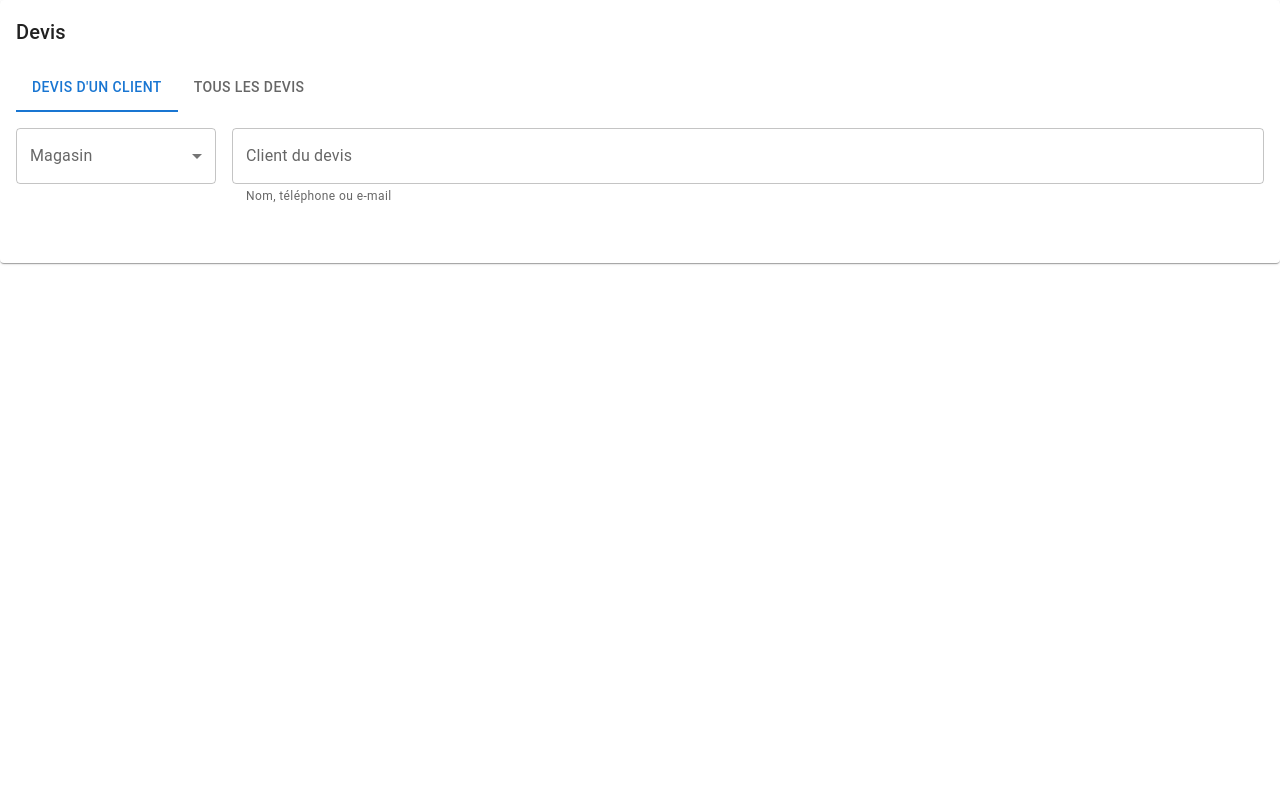
Test: passe un devis en commande avec acompte
Type "ben" into the field labelled "Client du devis" at (748, 156), box [232,128,1264,184]
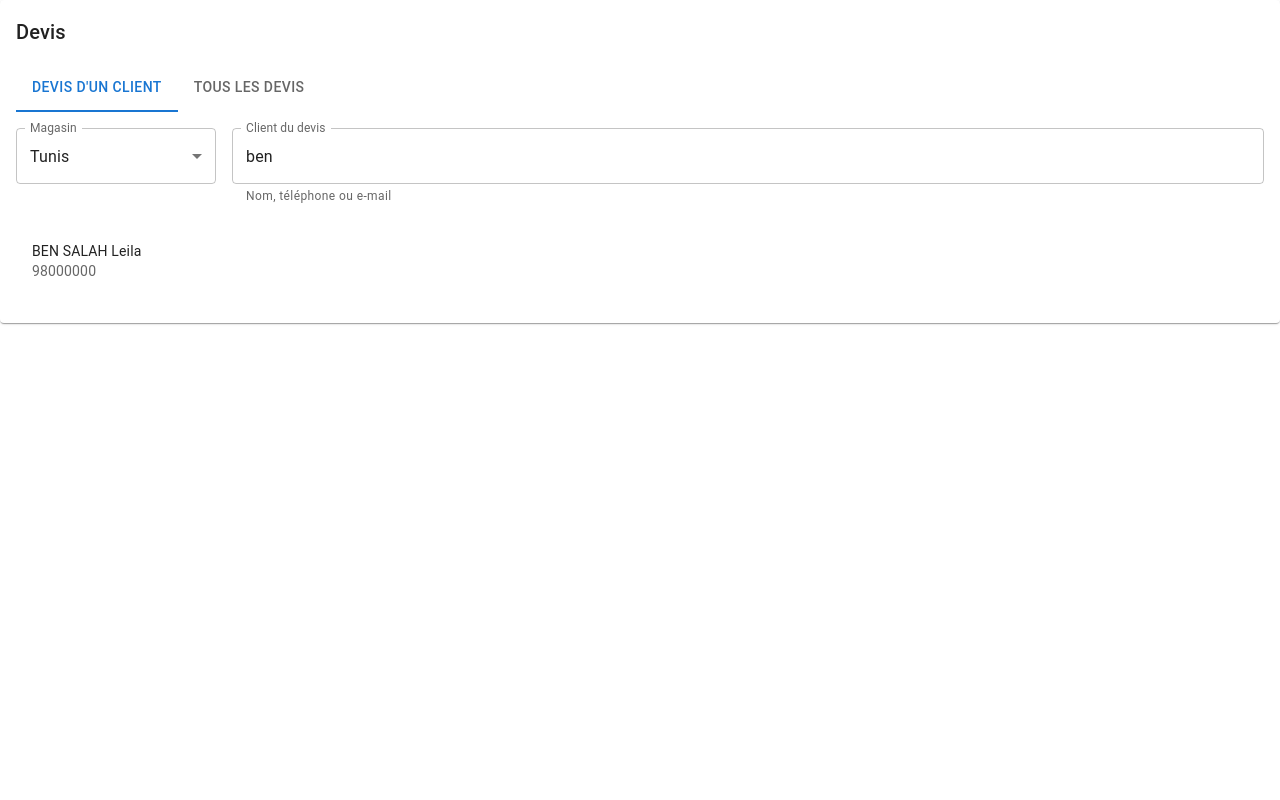
Click the text "BEN SALAH Leila" at (87, 251), box [32,243,142,259]
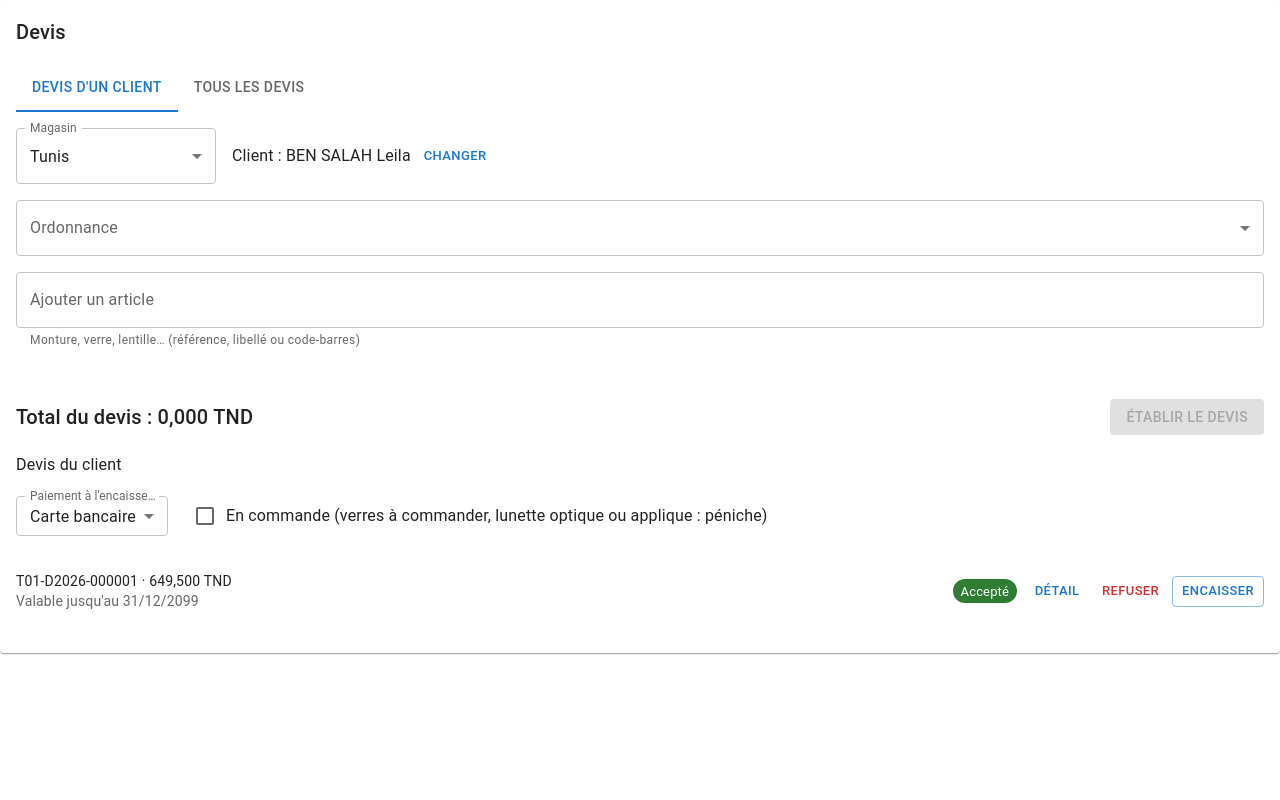
Click the checkbox labelled "En commande" at (480, 516), box [193,504,768,528]
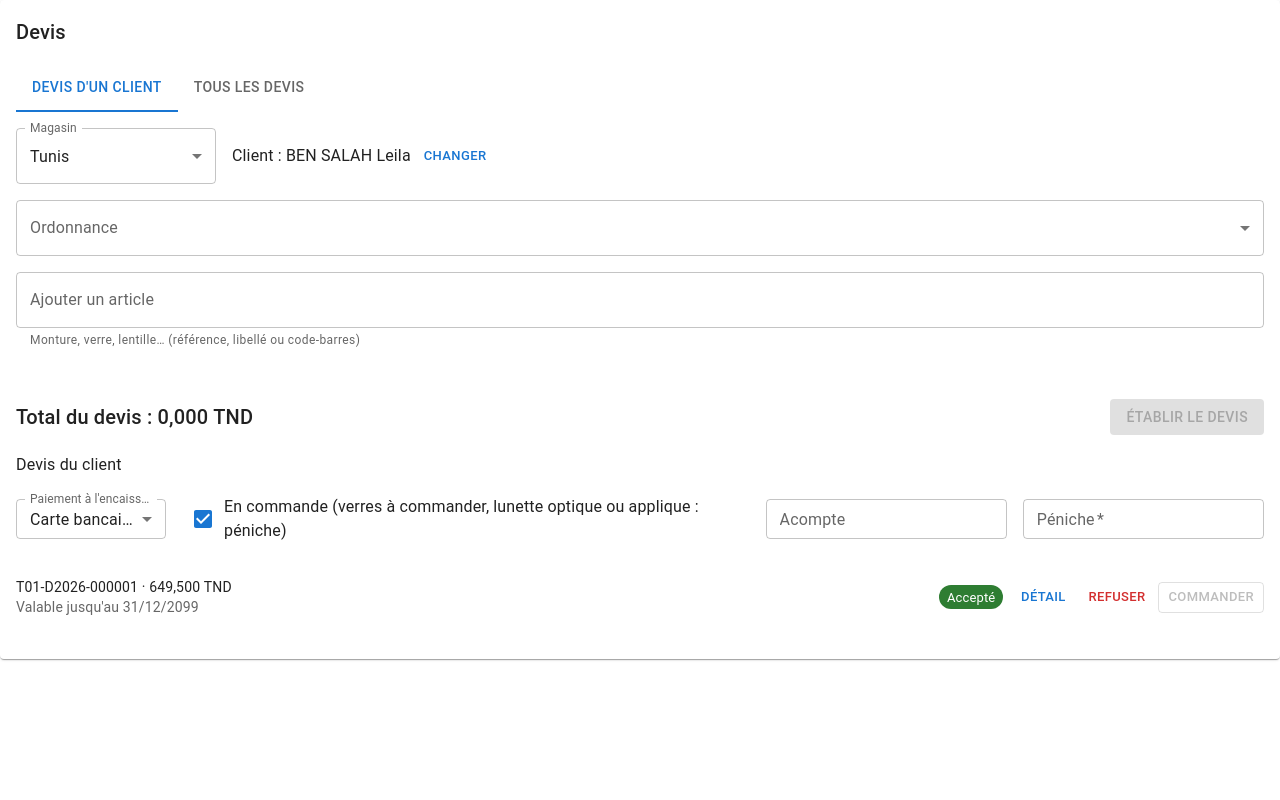
Type "300" into the number field labelled "Acompte" at (886, 519), box [766,499,1007,539]
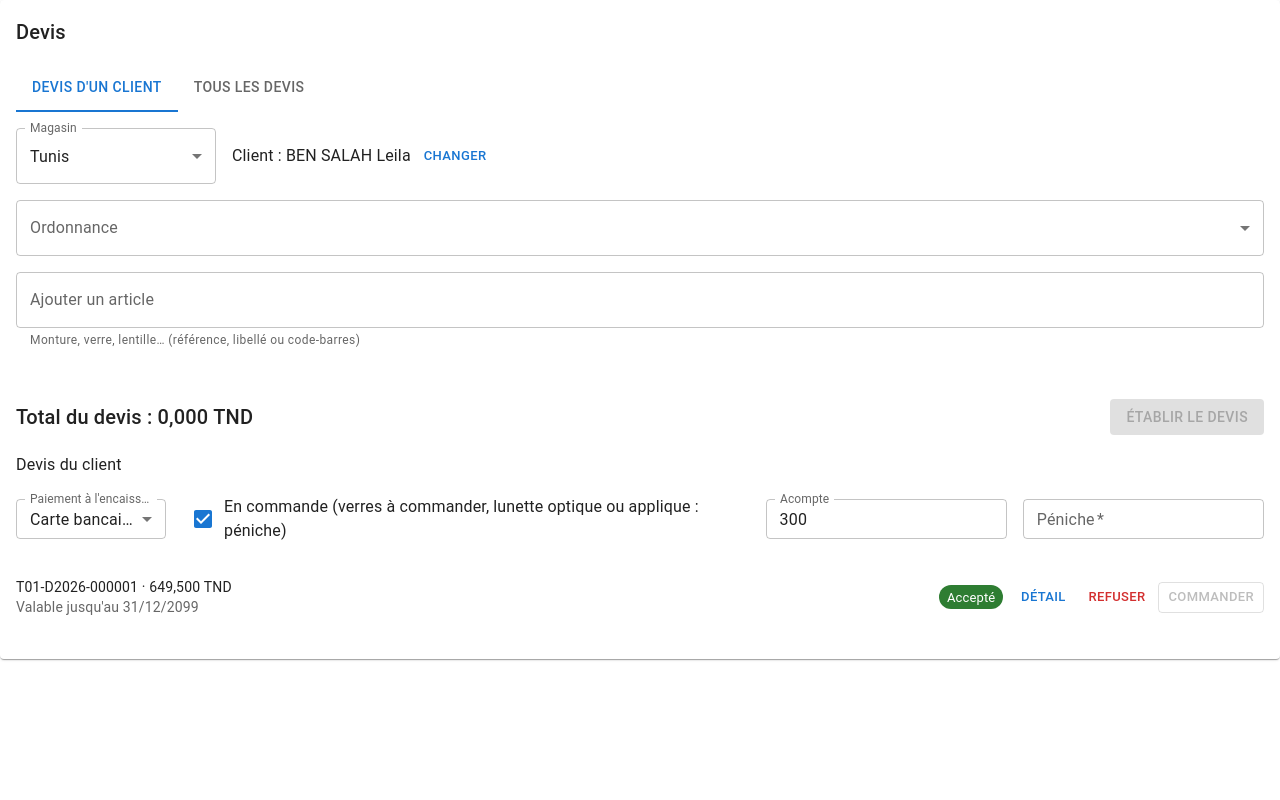
Expected: the button "Commander" is disabled, [1158,582,1264,613]
Type "12" into the number field labelled "Péniche *" at (1143, 519), box [1023,499,1264,539]
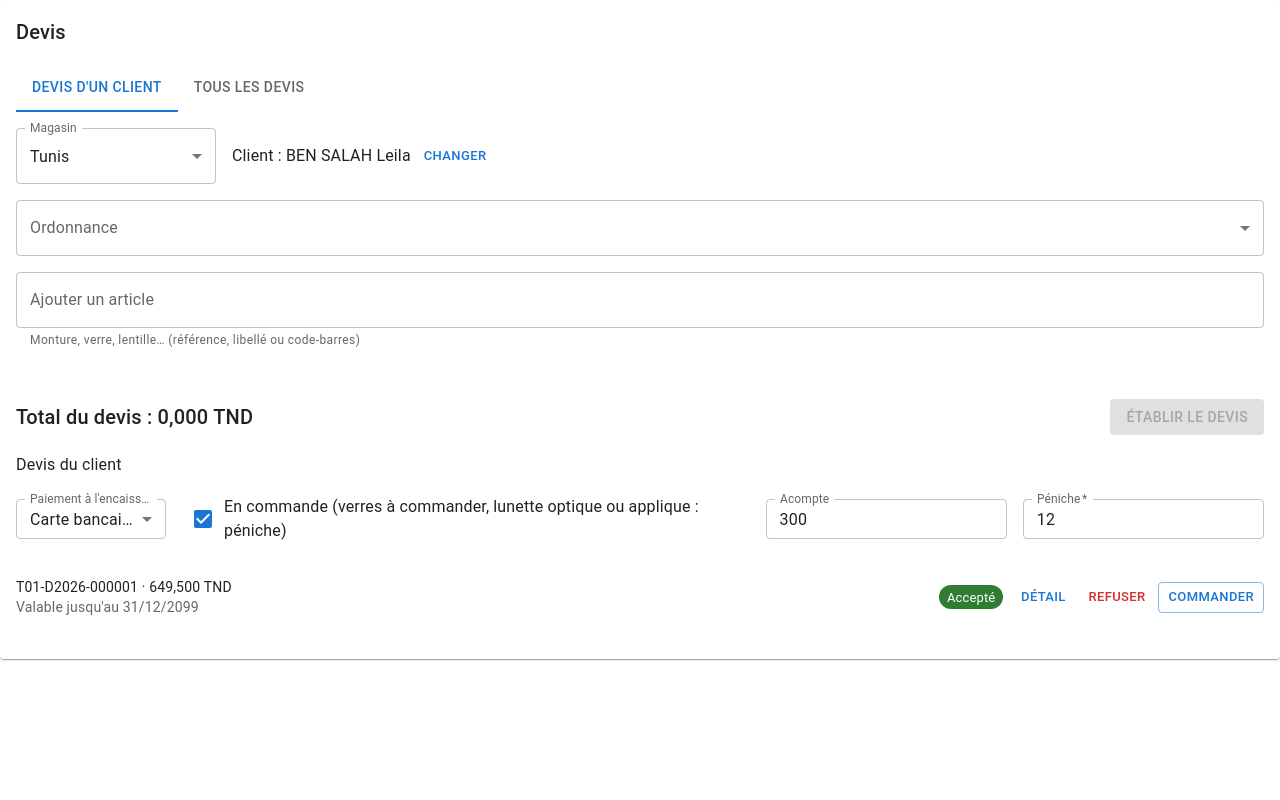
Click the button "Commander" at (1211, 597), box [1158,582,1264,613]
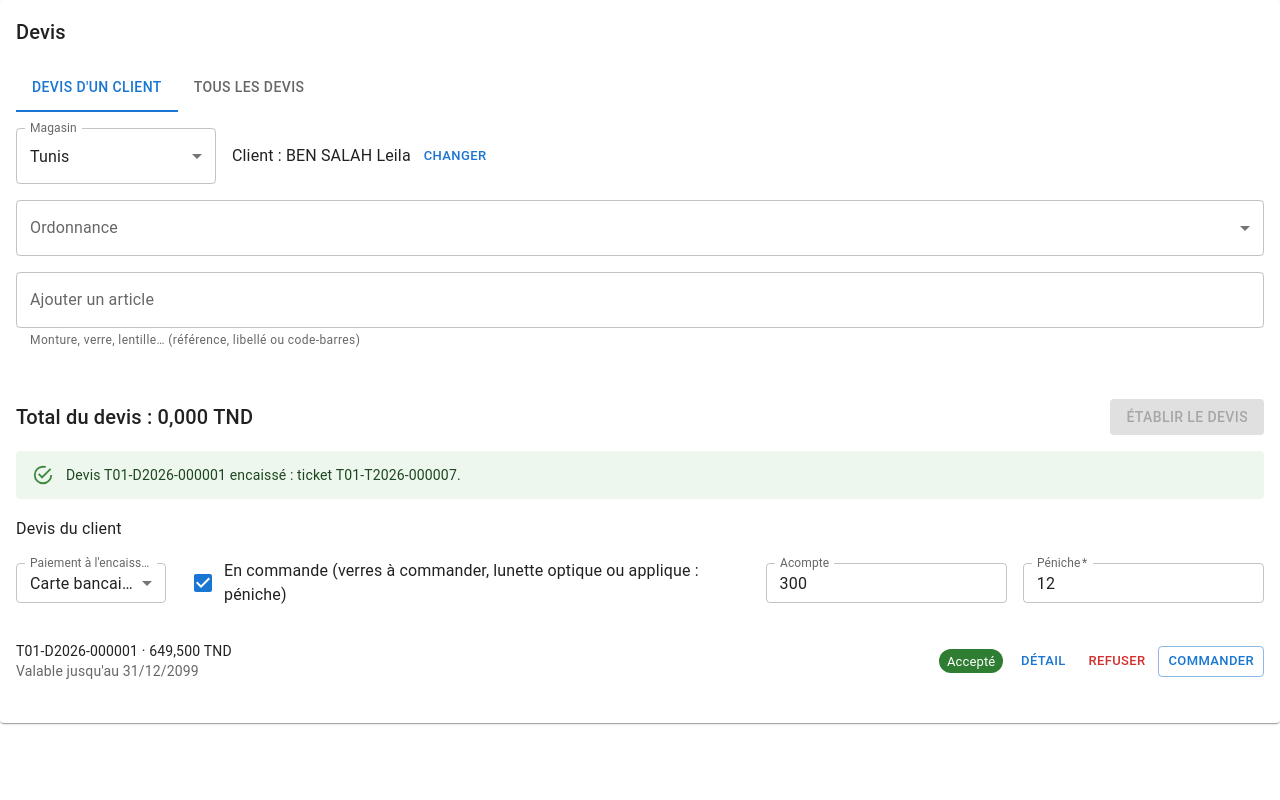
Expected: the text "Devis T01-D2026-000001 encaissé : ticket T01-T2026-000007." is shown, [66,467,461,483]
